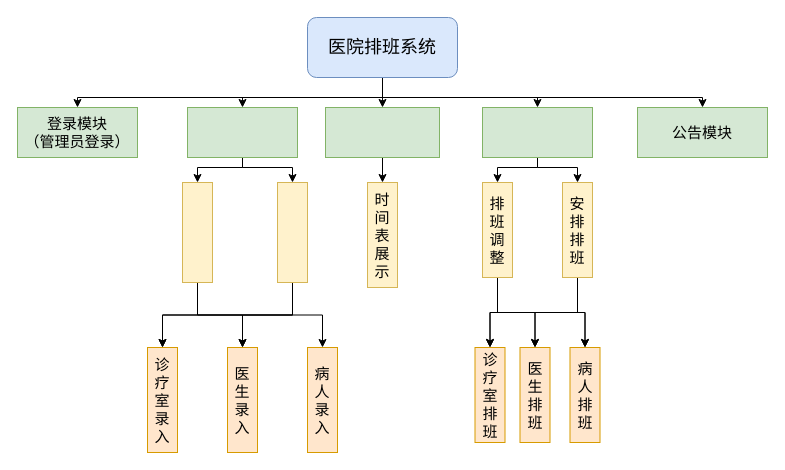
Image size: 785x470. Some labels were removed from this diagram. Here are the shapes that lost their labels. From the top down, the centre of each, then its label:
the point at 242,132: 数据录入模块
the point at 382,132: 展示模块
the point at 537,132: 排班模块
the point at 197,232: 时间表录入
the point at 292,232: 人员录入
